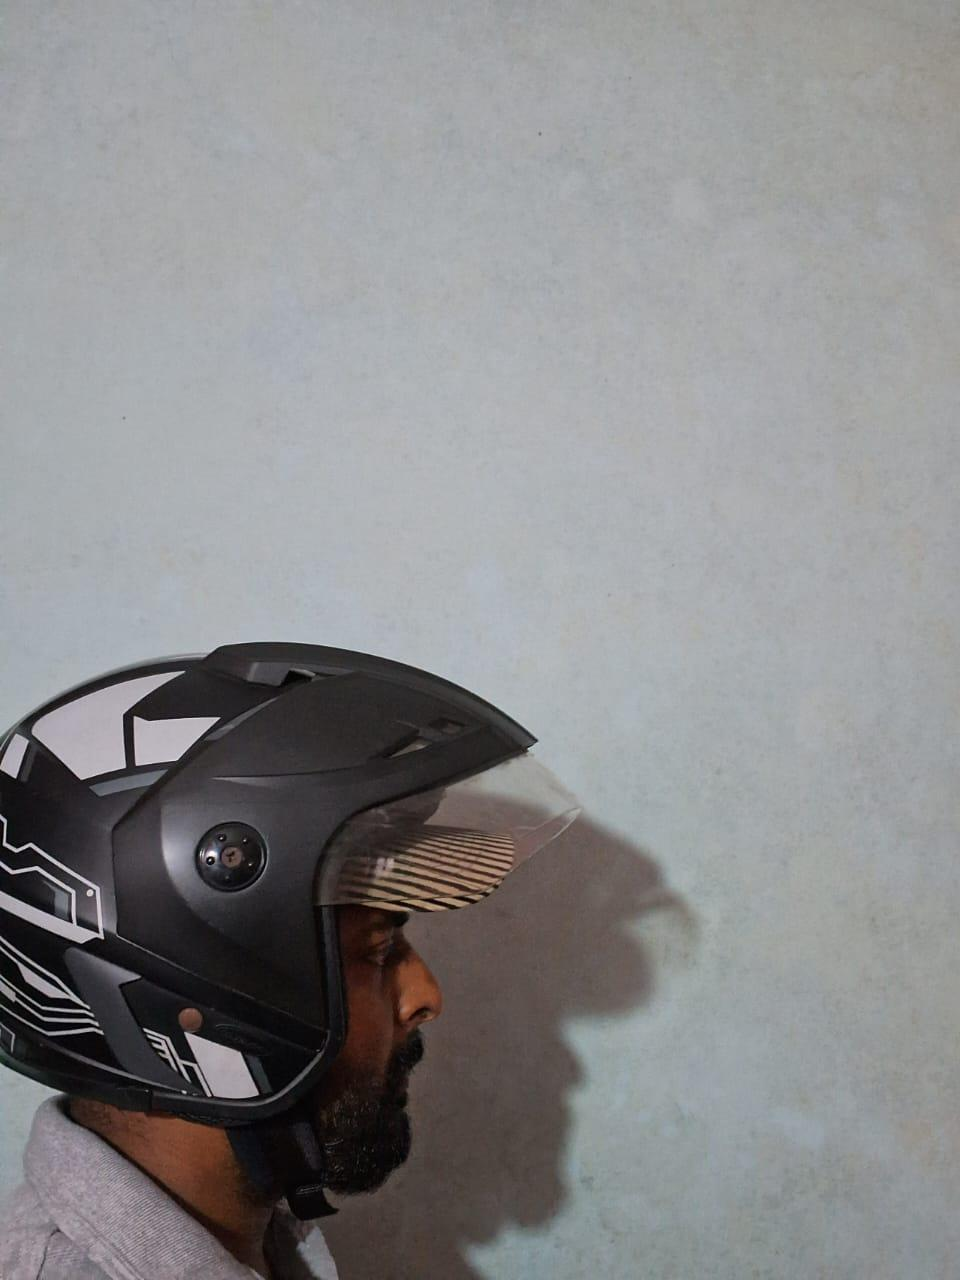helmet: (0, 643, 582, 1128)
